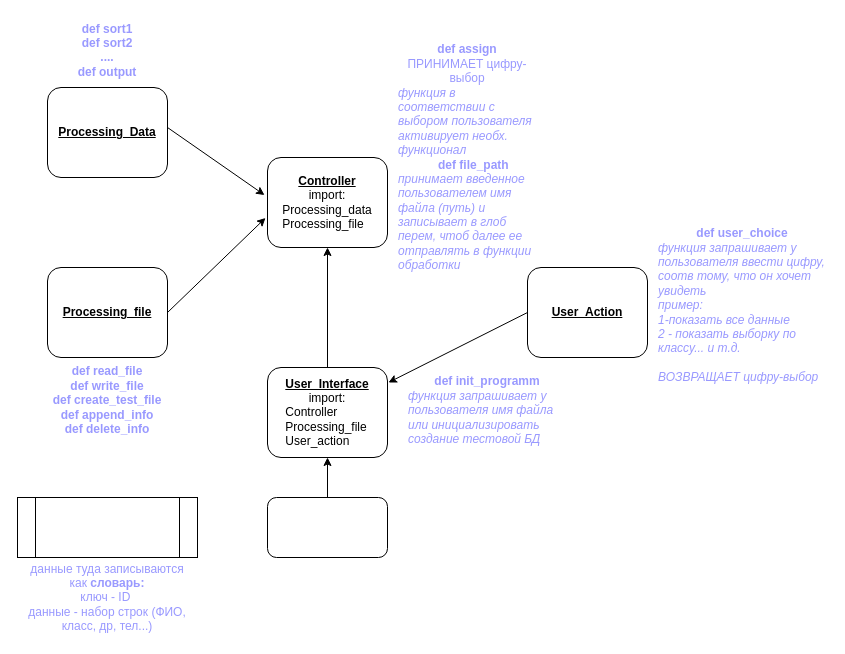
This 845x654 diagram has some shape labels left out. The centre of each missing label's shape, as x and y in pixels:
"Main import User_Interface" belongs at (327,527).
"Файл формат txt" belongs at (107,527).
